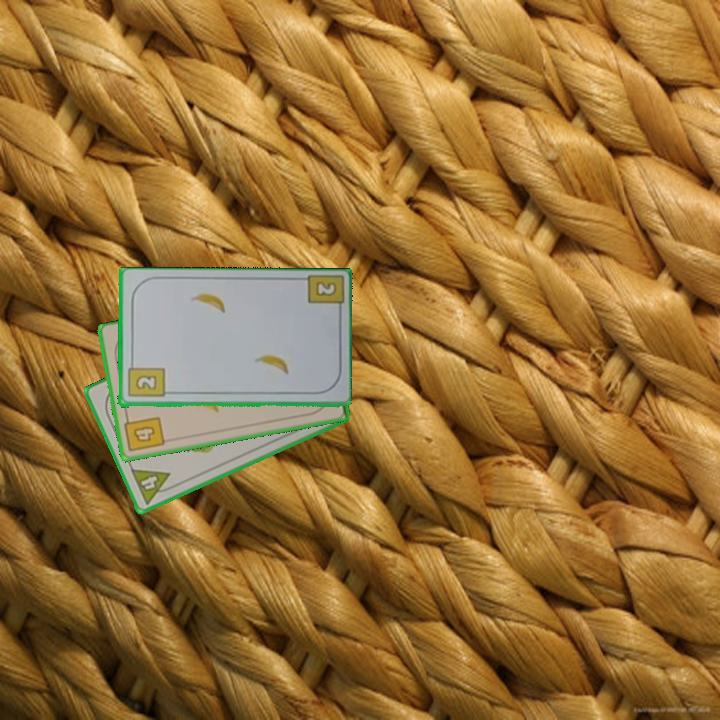2b: (125, 358, 166, 400), (312, 278, 339, 299)
4b: (121, 411, 167, 455)
4p: (127, 465, 178, 507)
